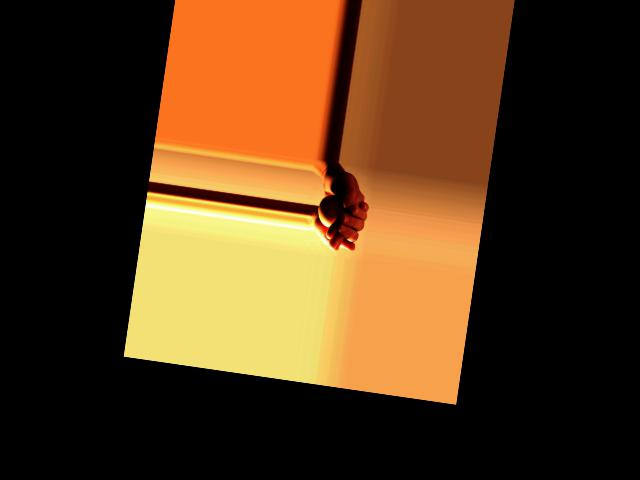egg: (316, 192, 343, 228)
